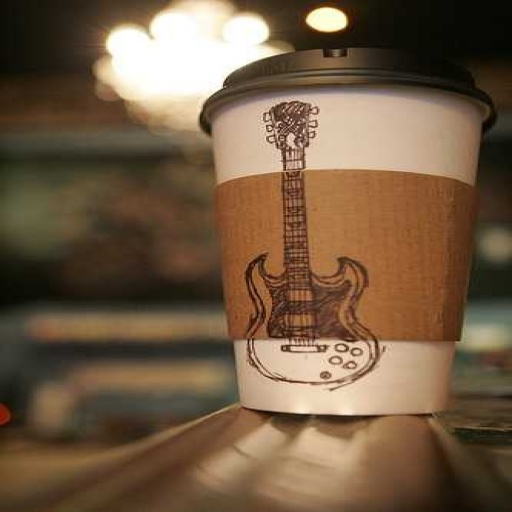cup: (196, 46, 498, 416)
